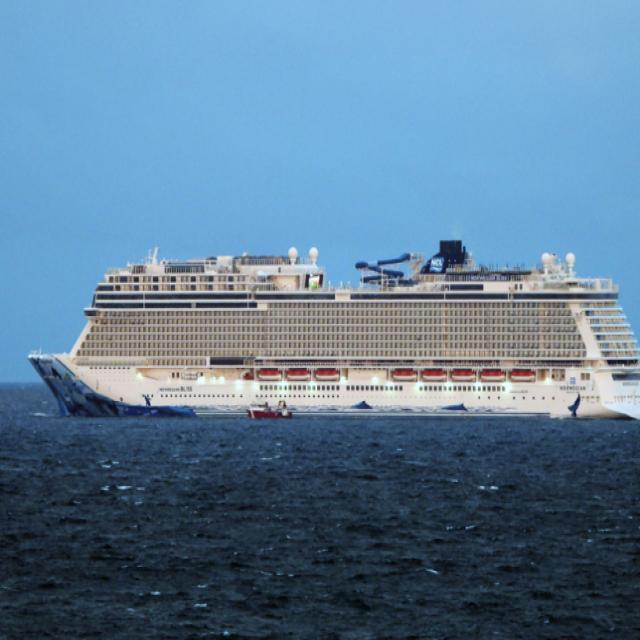cruises: (23, 236, 640, 437)
